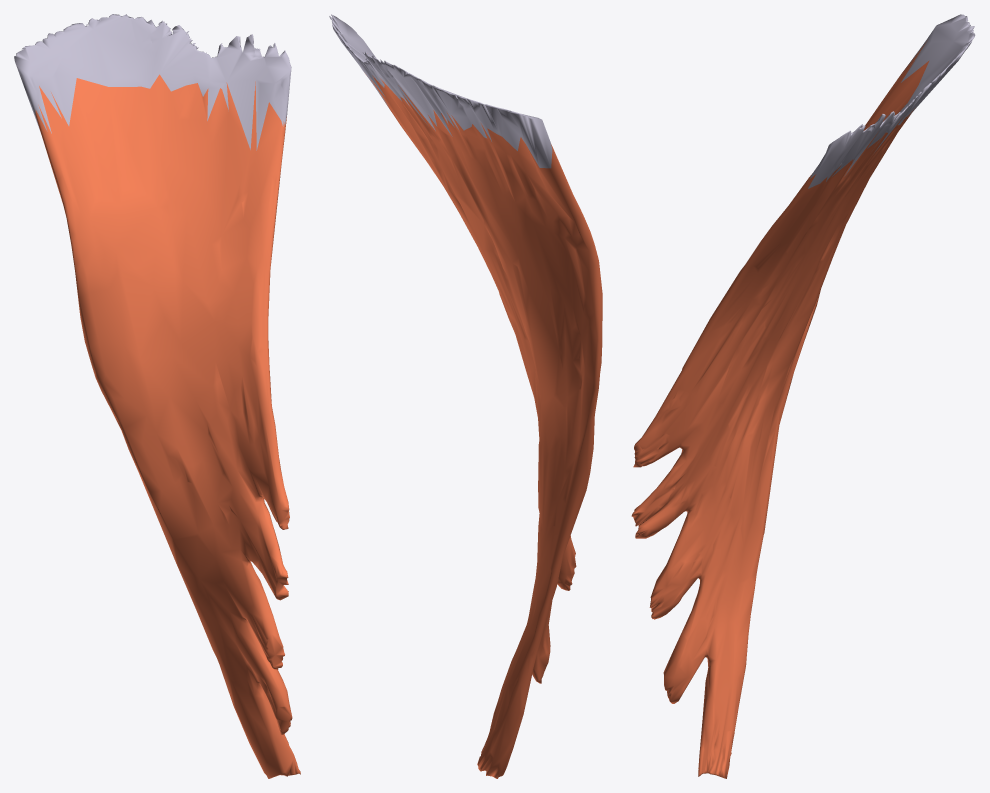
The model's file is Spinalis_capitis_left.glb.
The picture shows the model from 3 angles, left to right: view 1: azimuth 30°, elevation 25°; view 2: azimuth 150°, elevation 25°; view 3: azimuth 270°, elevation 25°; orthographic projection. The views are drawn at different scales.
Visible parts, largest first — view 1: Spinalis_capitis_muscle.l_Generated_Mesh_From_X3D.210; view 2: Spinalis_capitis_muscle.l_Generated_Mesh_From_X3D.210; view 3: Spinalis_capitis_muscle.l_Generated_Mesh_From_X3D.210.
Boxes of the visible parts, bbox=[...] form: Spinalis_capitis_muscle.l_Generated_Mesh_From_X3D.210: bbox=[14, 14, 300, 778]; Spinalis_capitis_muscle.l_Generated_Mesh_From_X3D.210: bbox=[329, 14, 602, 778]; Spinalis_capitis_muscle.l_Generated_Mesh_From_X3D.210: bbox=[631, 14, 975, 778].
Size of the model in its own units: 0.0415 by 0.1241 by 0.0546.
